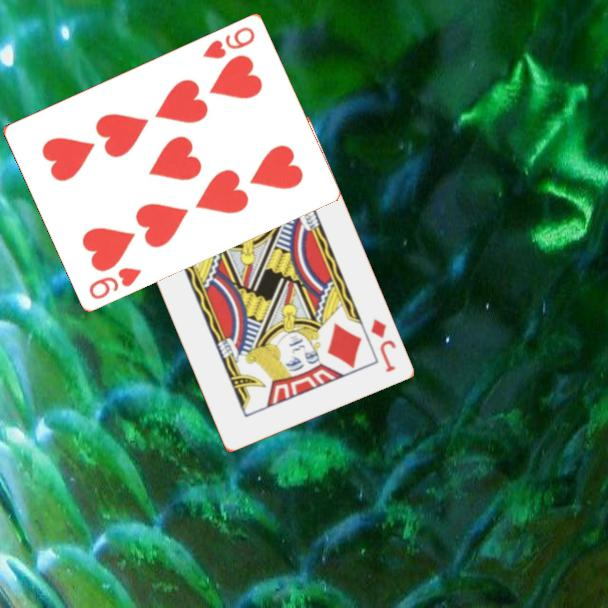d11: (367, 315, 399, 375)
h09: (85, 263, 145, 302), (199, 23, 258, 62)
